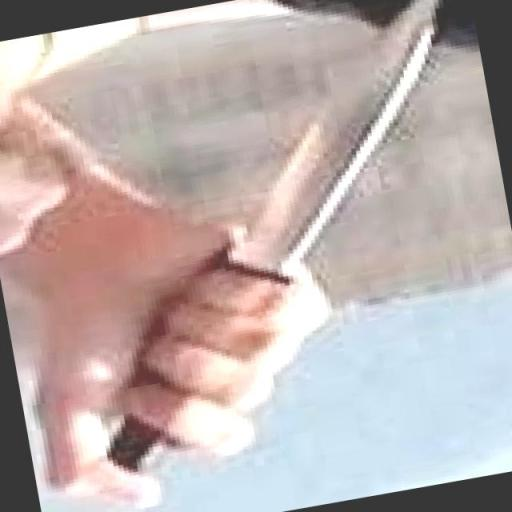knife: (35, 0, 512, 495)
